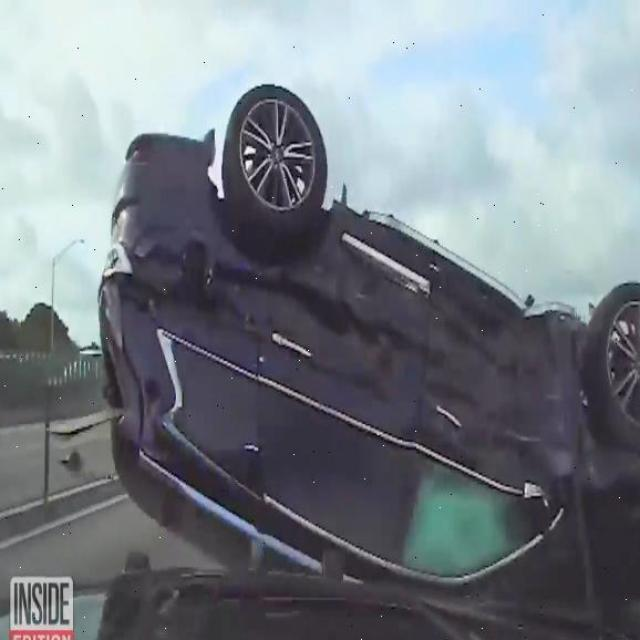accident: (89, 82, 640, 576)
